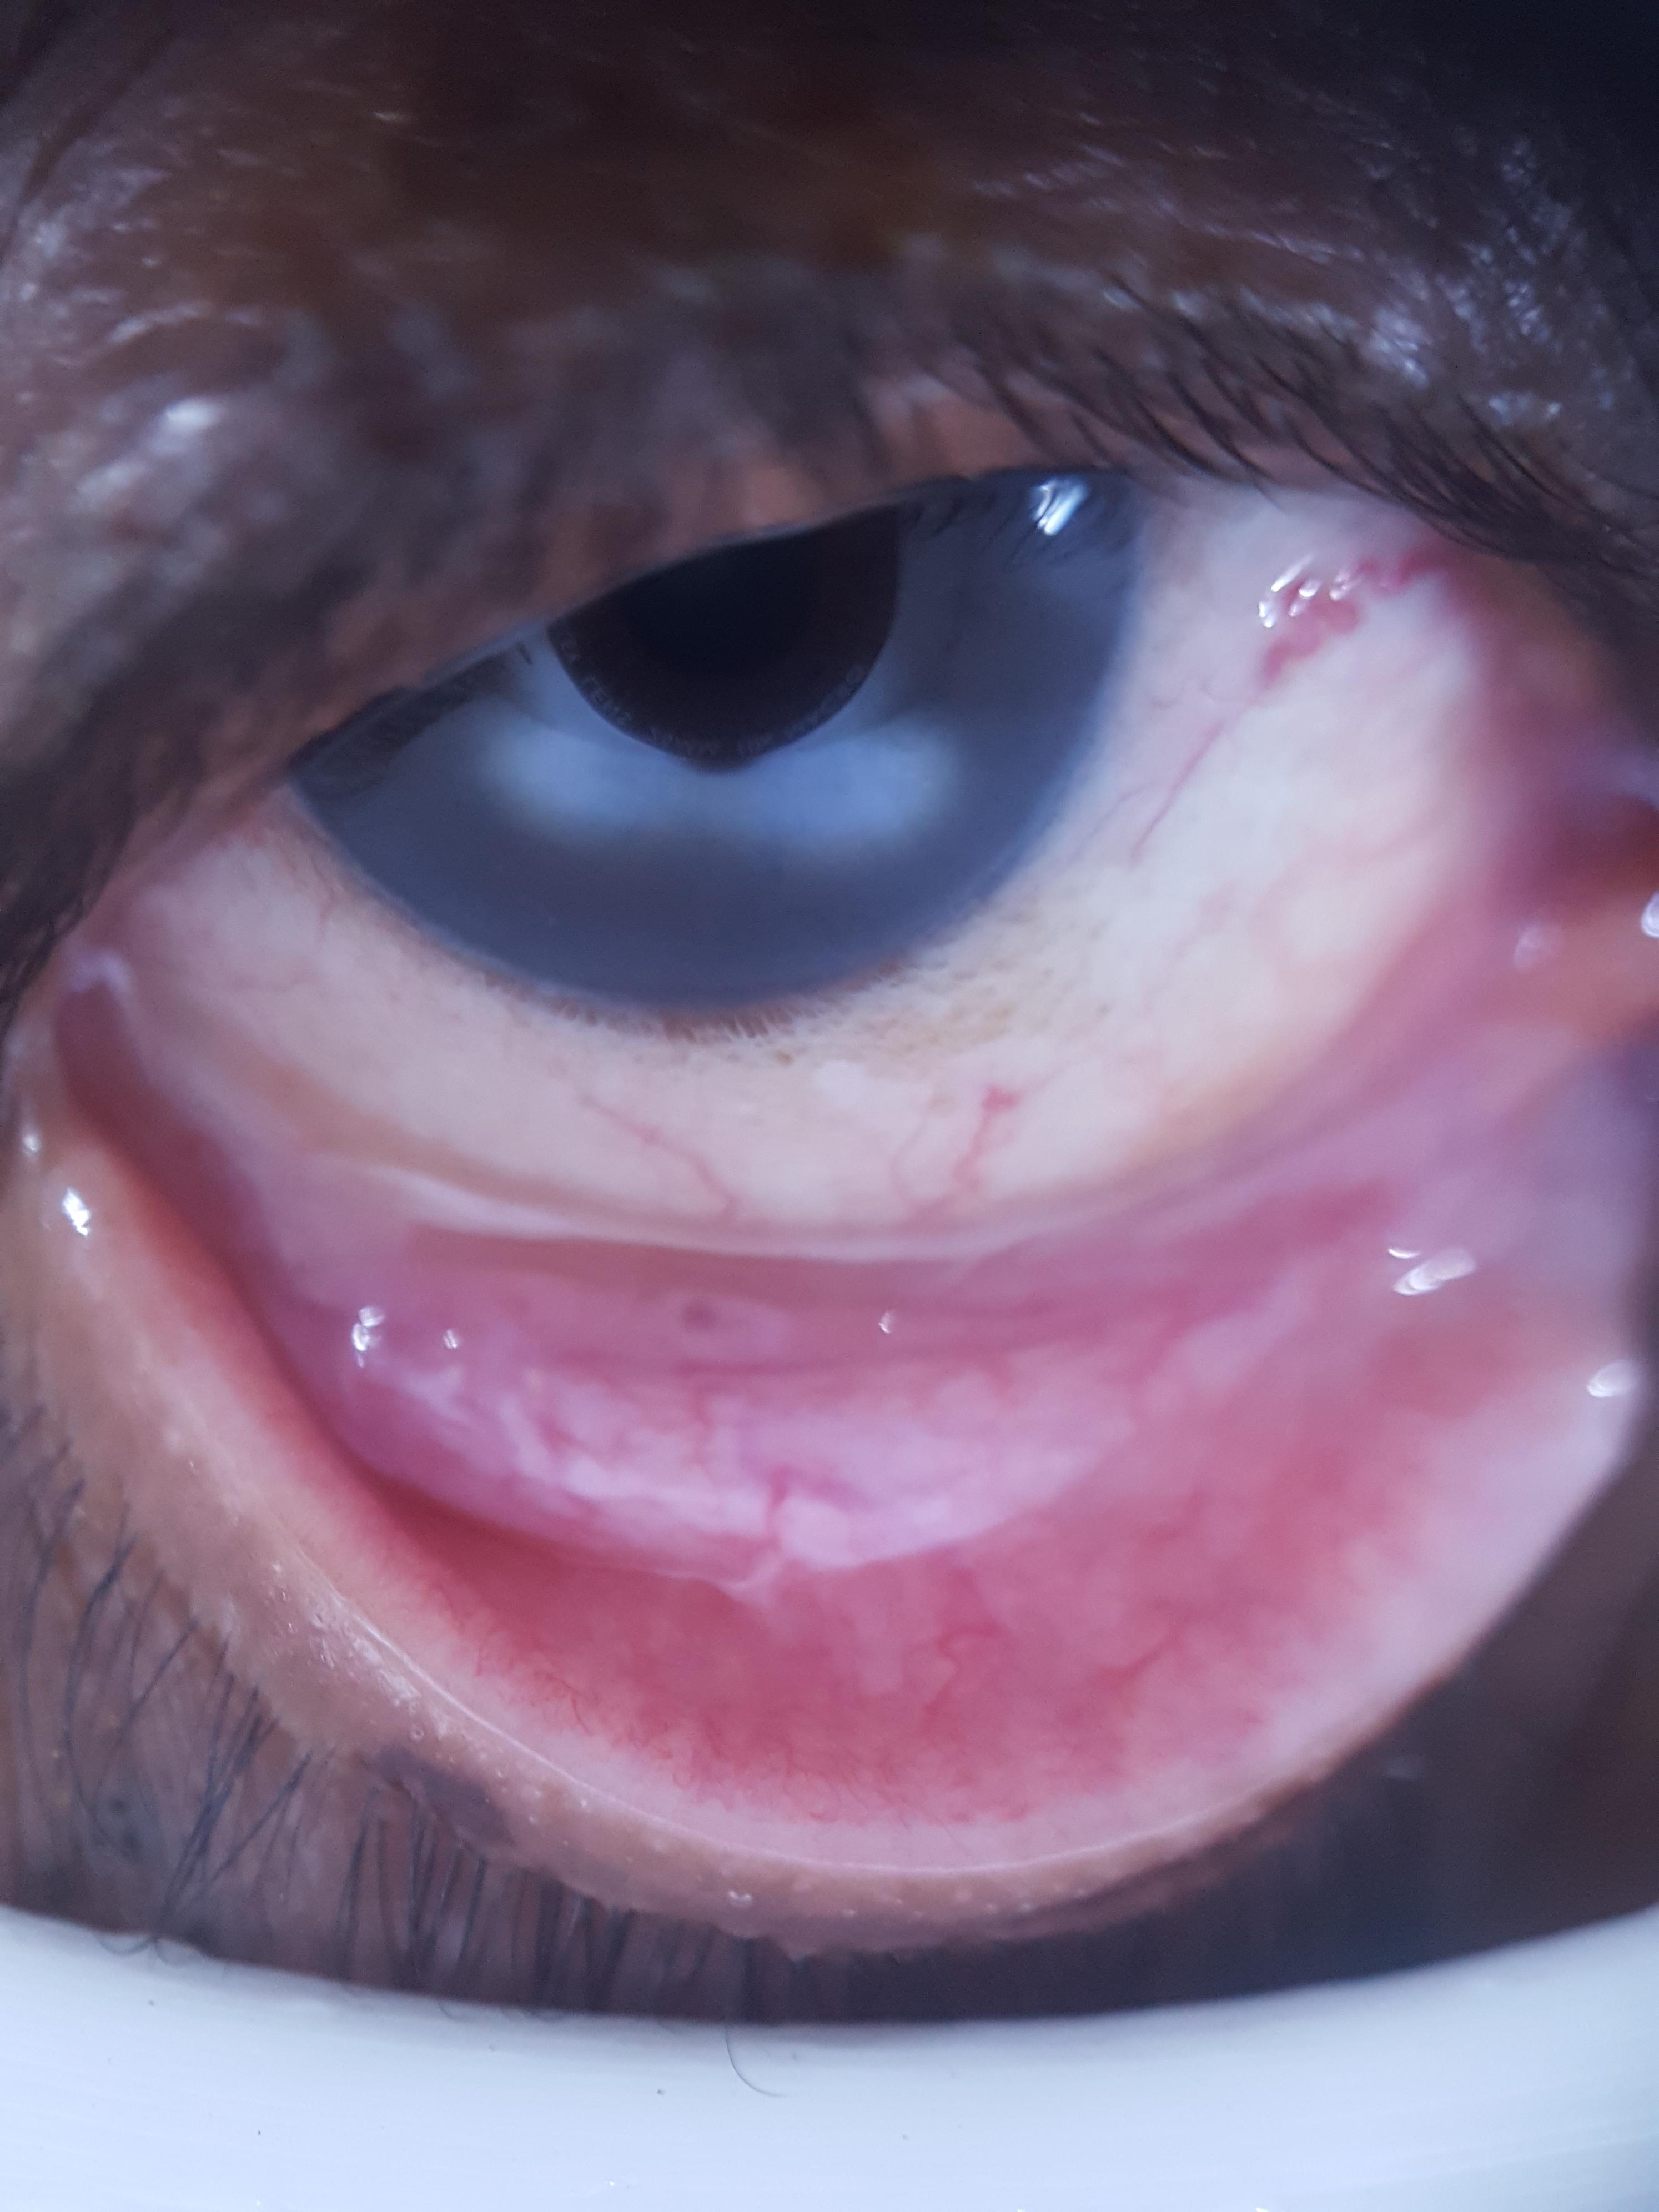forniceal: (125, 1028, 1502, 1576)
forniceal_palpebral: (58, 1000, 1546, 1815)
palpebral: (80, 1033, 1535, 1799)
